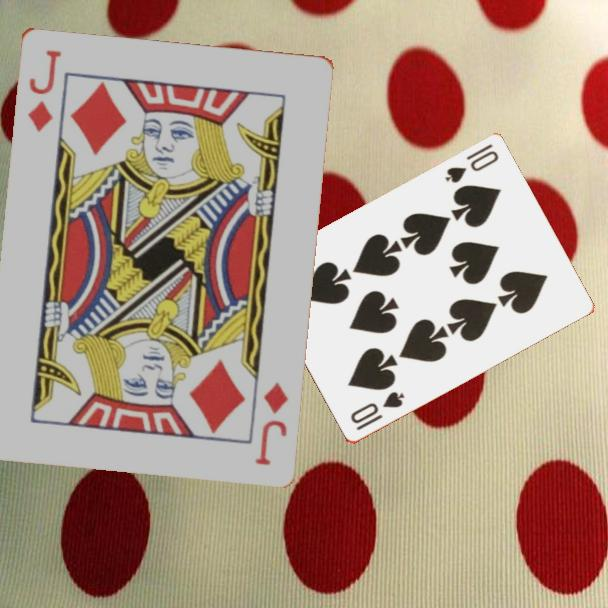d11: (251, 378, 291, 468), (24, 46, 64, 134)
s10: (441, 141, 502, 187), (347, 388, 407, 434)
